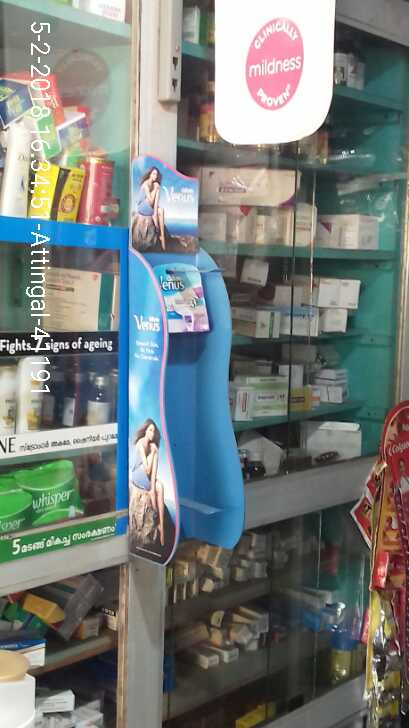beauty: (156, 256, 215, 332), (22, 348, 55, 436)
pharmacy: (30, 457, 89, 523)
